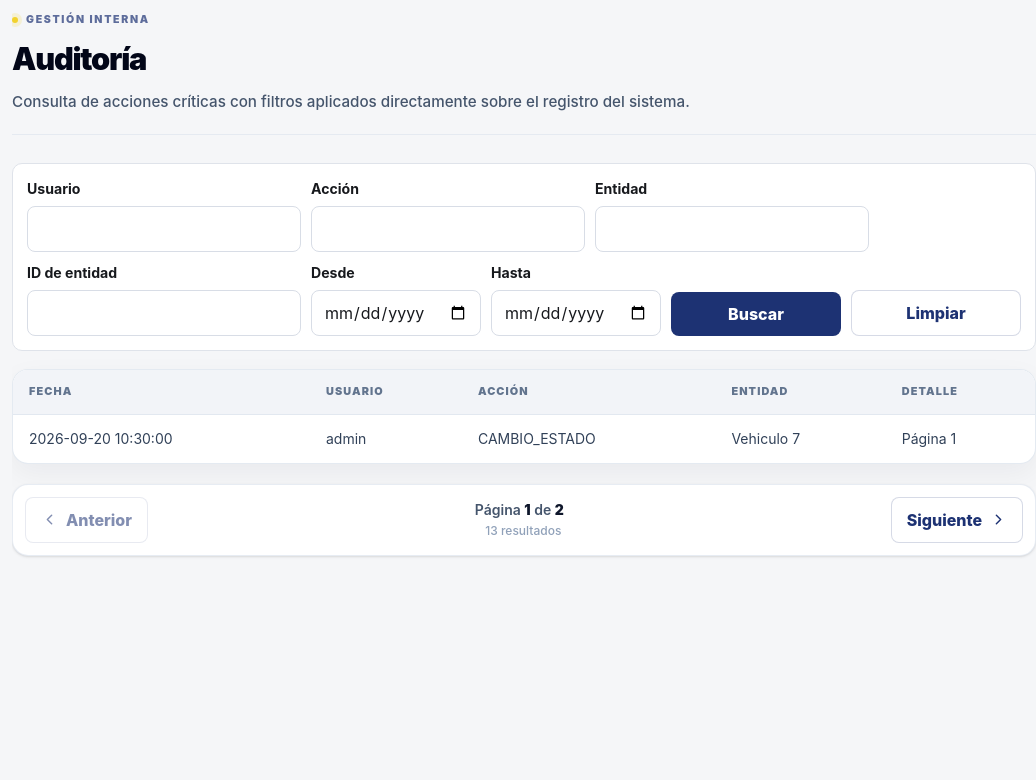
AuditoriaPage › impide consultar cuando desde es posterior a hasta
Expected: the text "Página 1" is shown, [886,415,1035,463]
Type "2026-09-21" into the date field labelled "Desde". click: (396, 313)
box: [311,290,481,336]
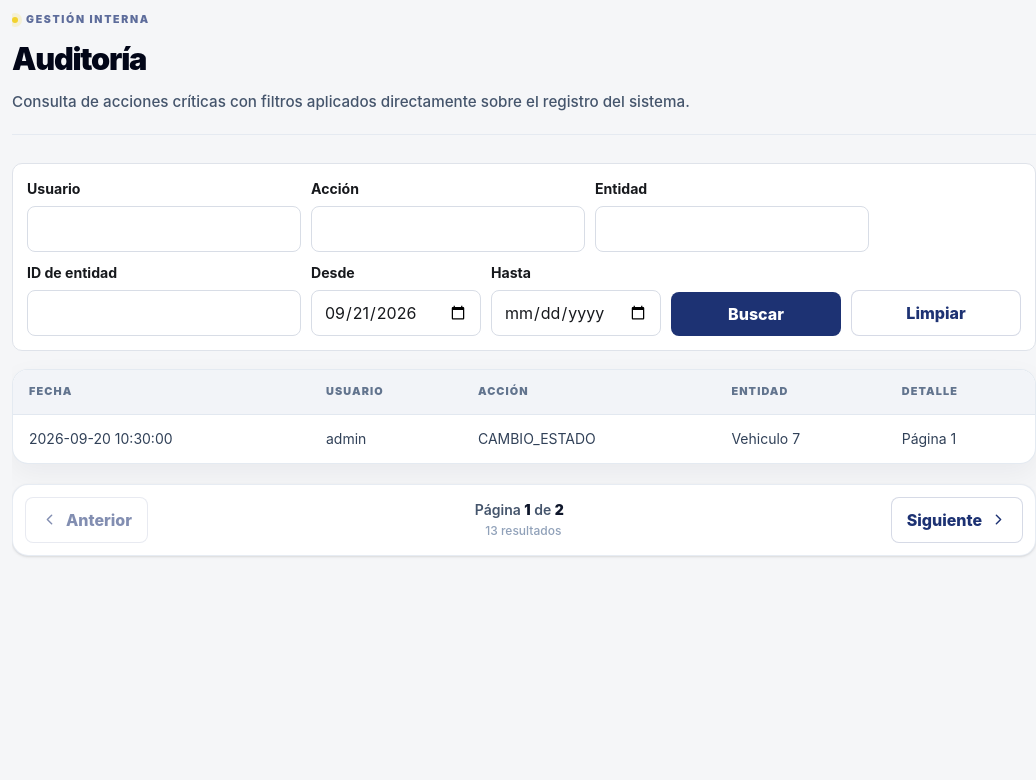
Type "2026-09-20" into the date field labelled "Hasta". click: (576, 313)
box: [491,290,661,336]
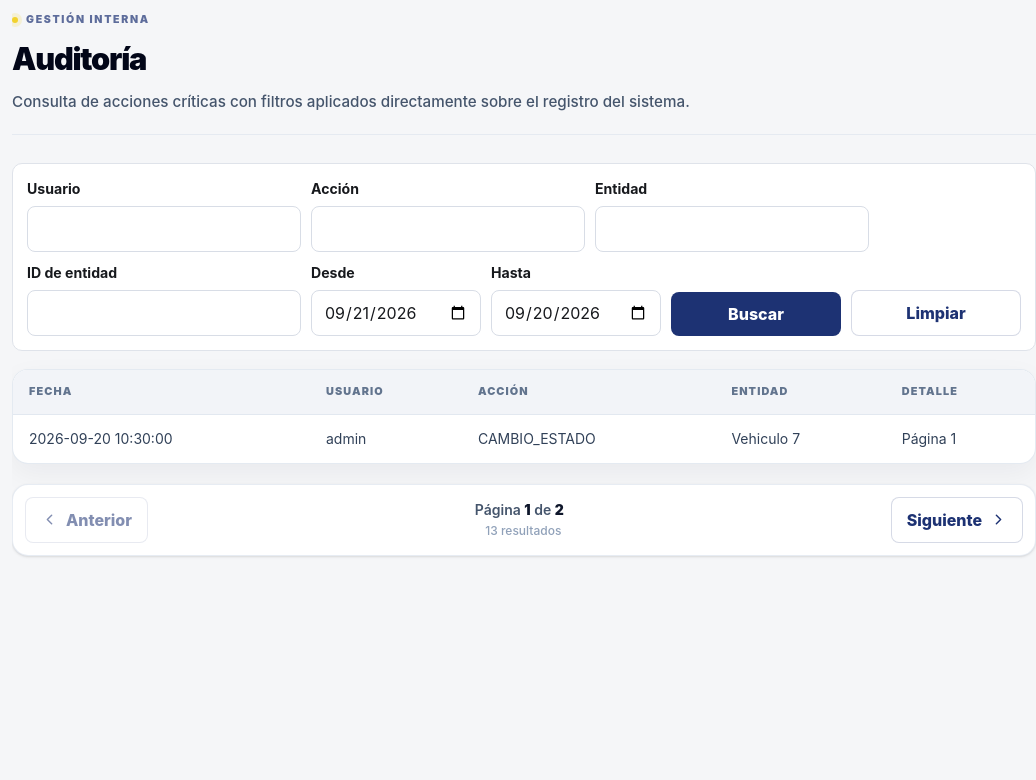
Click the button "Buscar". click: (756, 314)
box: [671,292,841,336]
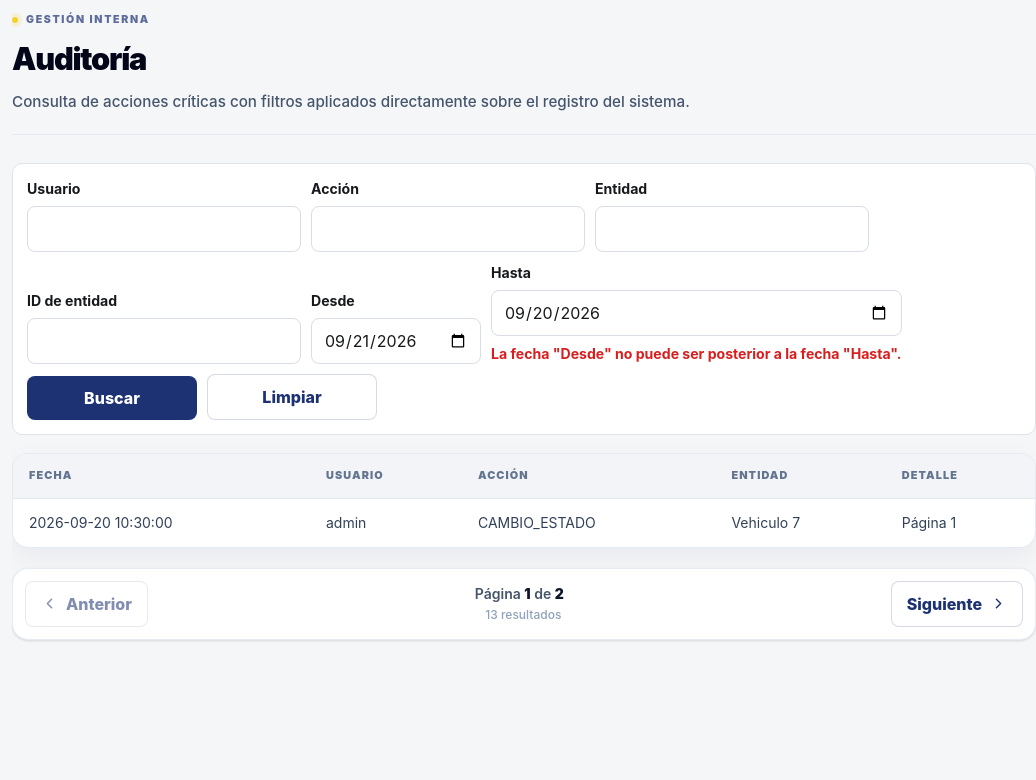
Result: the text "La fecha \"Desde\" no puede ser posterior a la fecha \"Hasta\"." is shown at [491,343,902,364]
